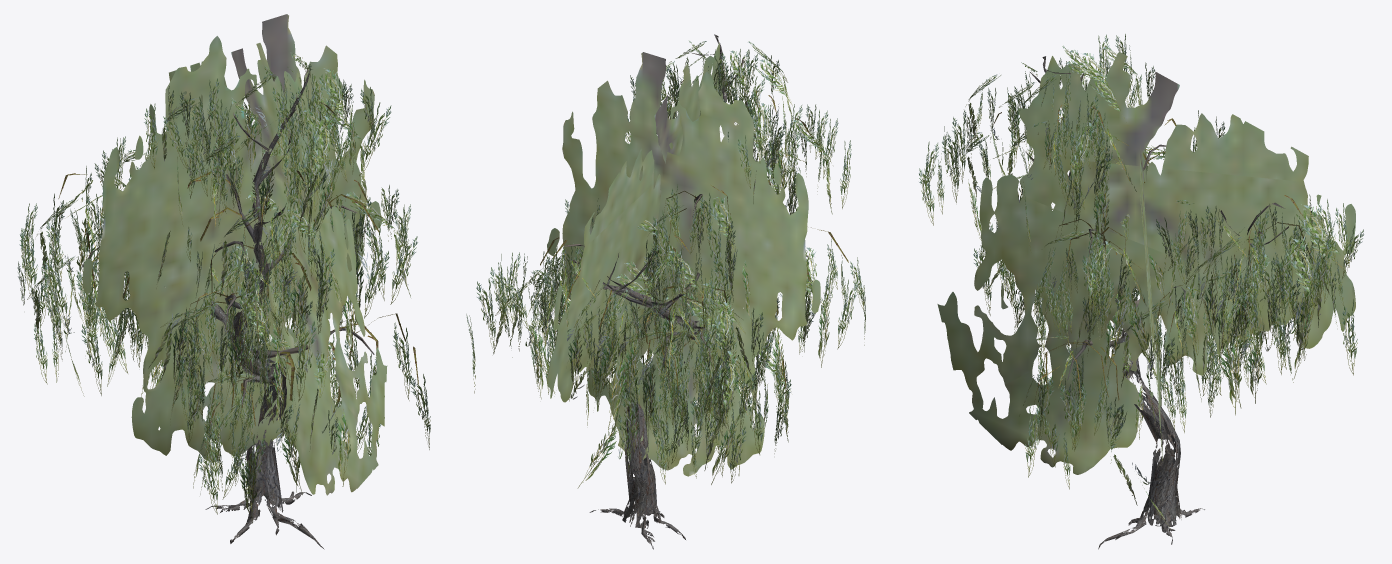
File: willowtree2.glb
The picture shows the model from 3 angles, left to right: view 1: azimuth 30°, elevation 25°; view 2: azimuth 150°, elevation 25°; view 3: azimuth 270°, elevation 25°; orthographic projection. The views are drawn at different scales.
Visible parts, largest first — view 1: WillowTree2; view 2: WillowTree2; view 3: WillowTree2.
Boxes of the visible parts, x1,y1,x2,y2 form: WillowTree2: (17,14,430,549); WillowTree2: (466,34,865,549); WillowTree2: (919,34,1363,549).
Size of the model in its own units: 13.88 by 21.15 by 18.92.
Materials: 3 (3 with a texture image).
